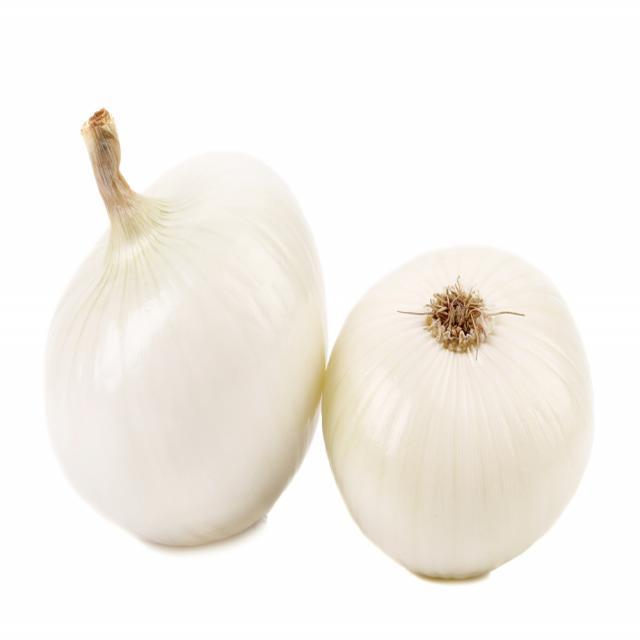onion: (38, 110, 330, 549), (320, 242, 590, 582)
